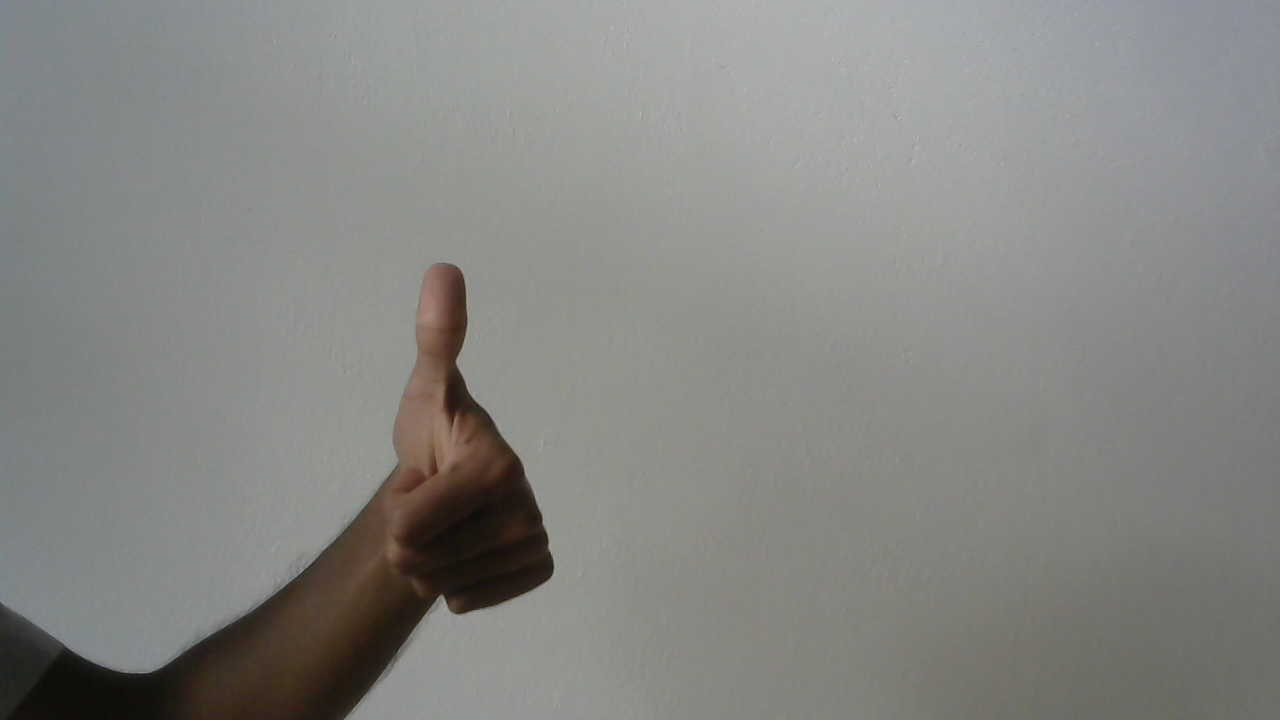thumbsup: (359, 239, 569, 646)
